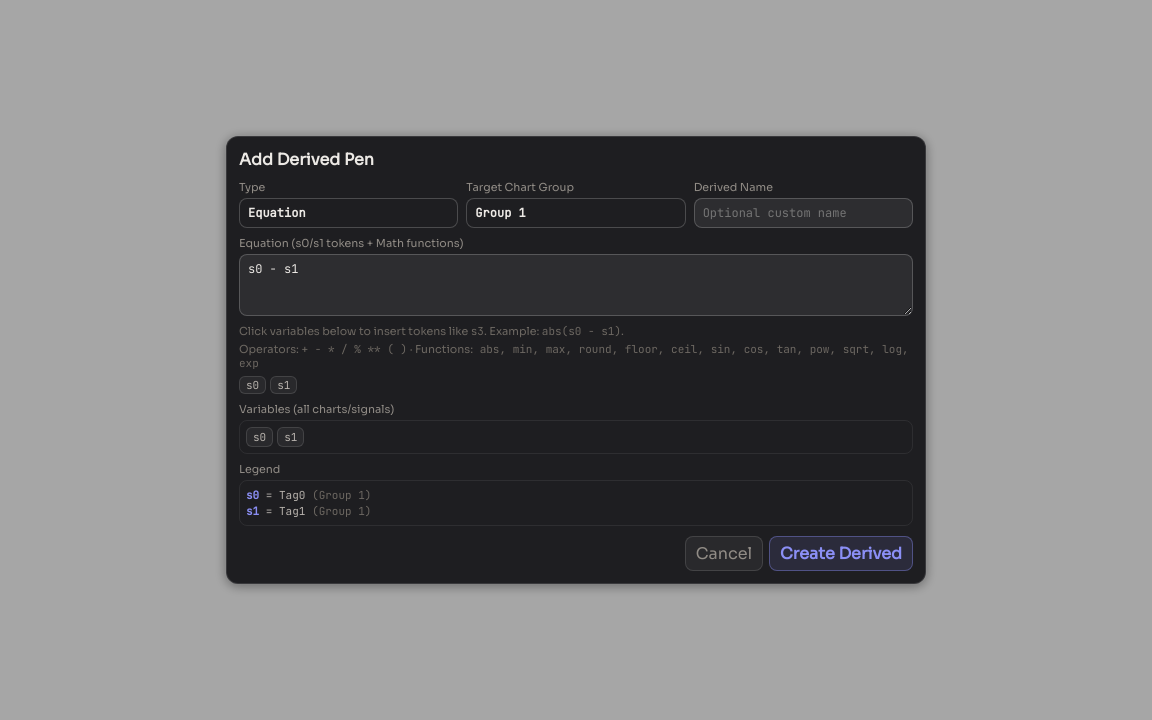
DerivedPenDialog › shows window range slider when type is rolling_avg
This screenshot has width=1152, height=720.
Select "Rolling Average" in the dropdown below "Type". click: (349, 213)
box: 239,198 -> 458,228
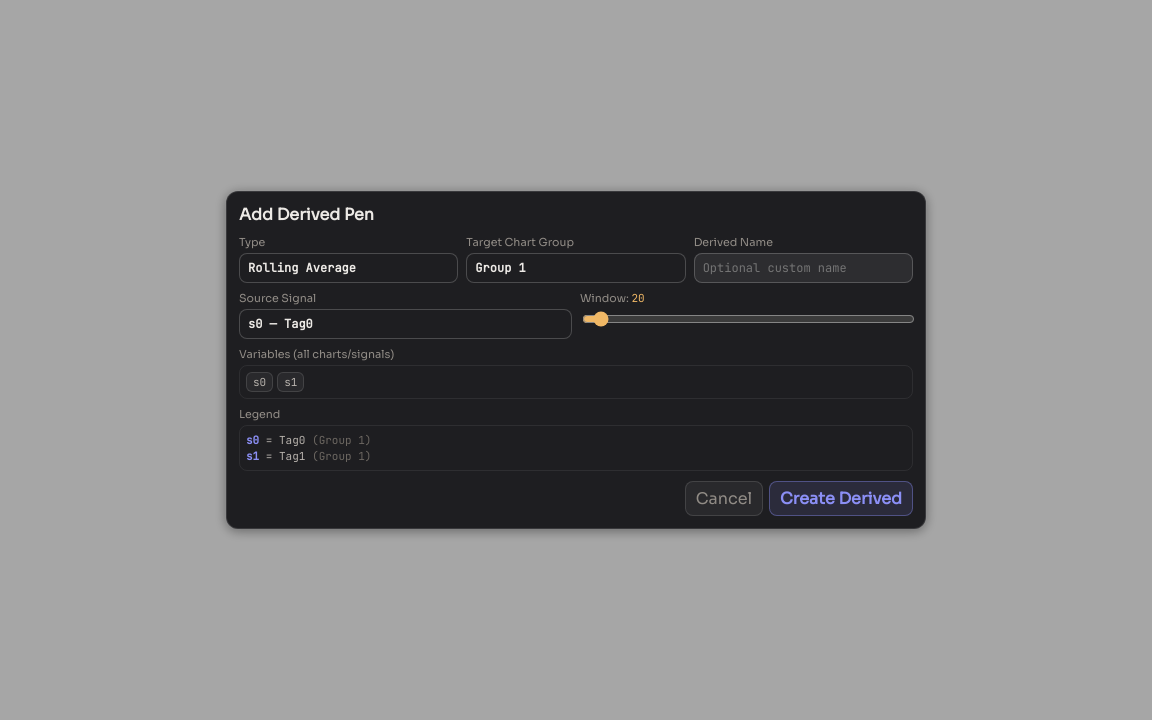
Check: the slider is shown, box 582,311 -> 915,327
